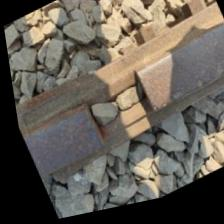person: (60, 58, 170, 164)
